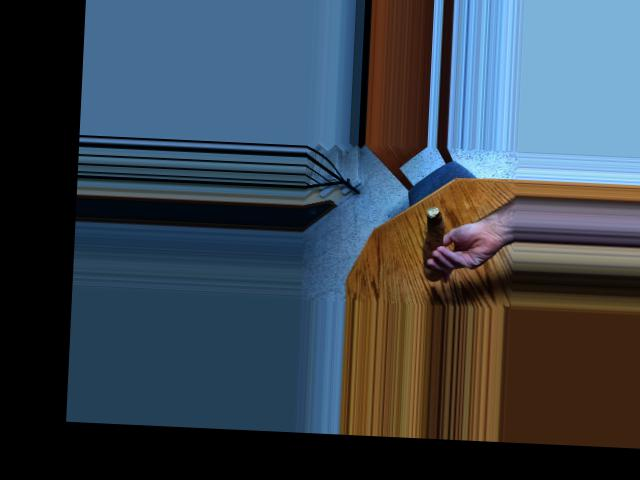sweet_potato: (415, 211, 450, 277)
